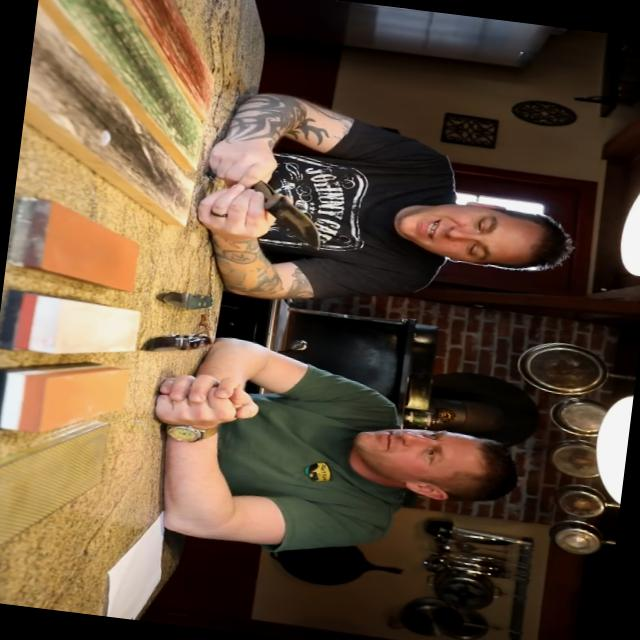knife: (216, 158, 340, 256)
